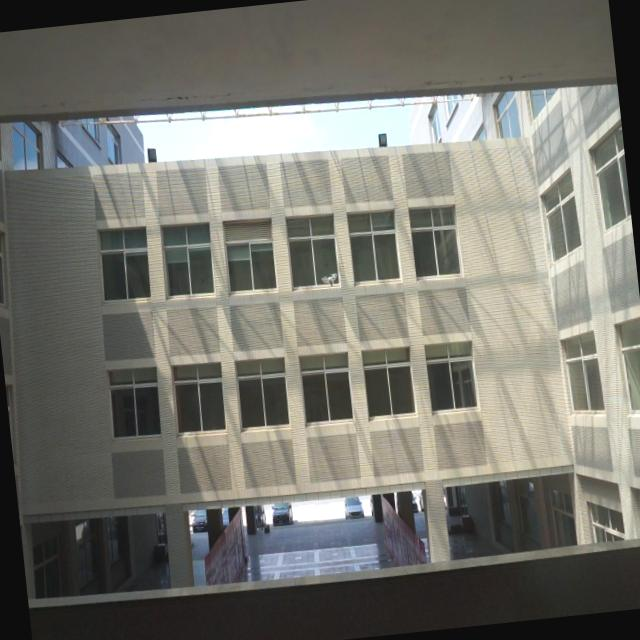drone: (319, 268, 341, 292)
